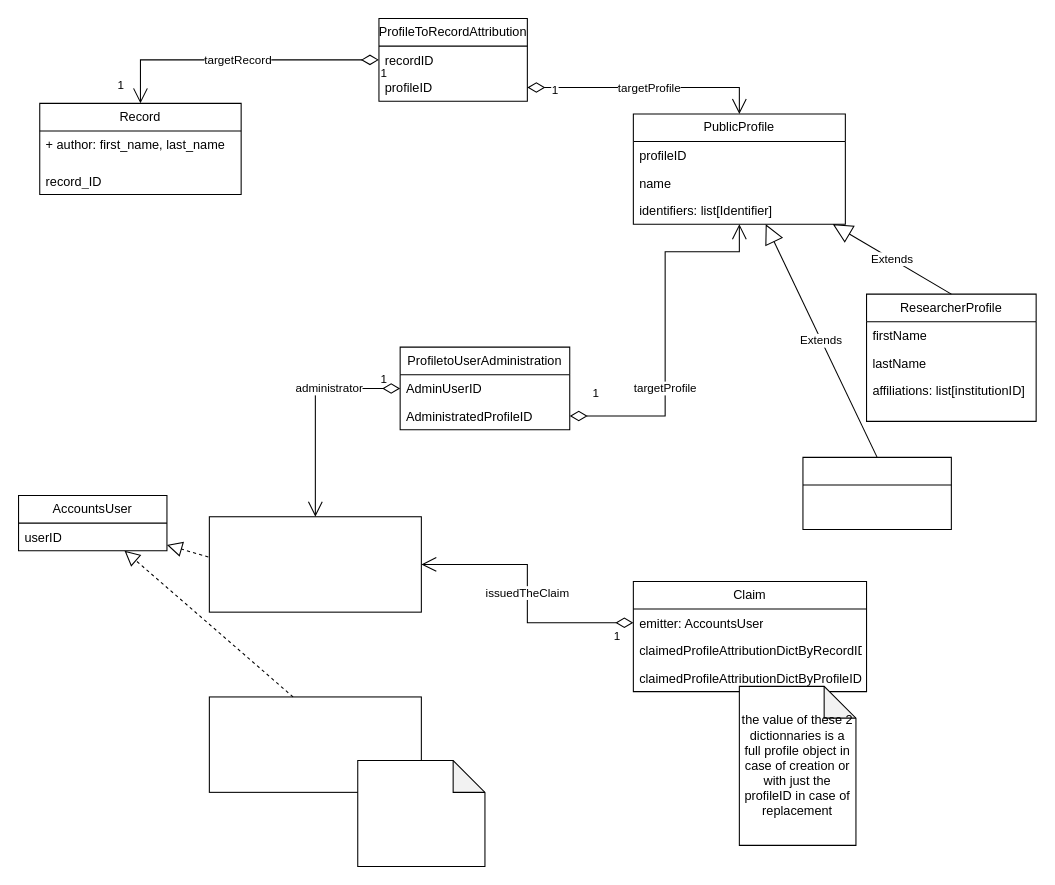
This 1055x885 diagram has some shape labels left out. Each missing label, with the centre of its shape:
AffiliationProfile: the point at 876,492
GlobalProfileAdmin1:AccountsUser userID = 11: the point at 314,744
Has GlobalProfileAdmin role: the point at 421,813
ProfileAdmin1:AccountsUser userID = 1: the point at 314,564
